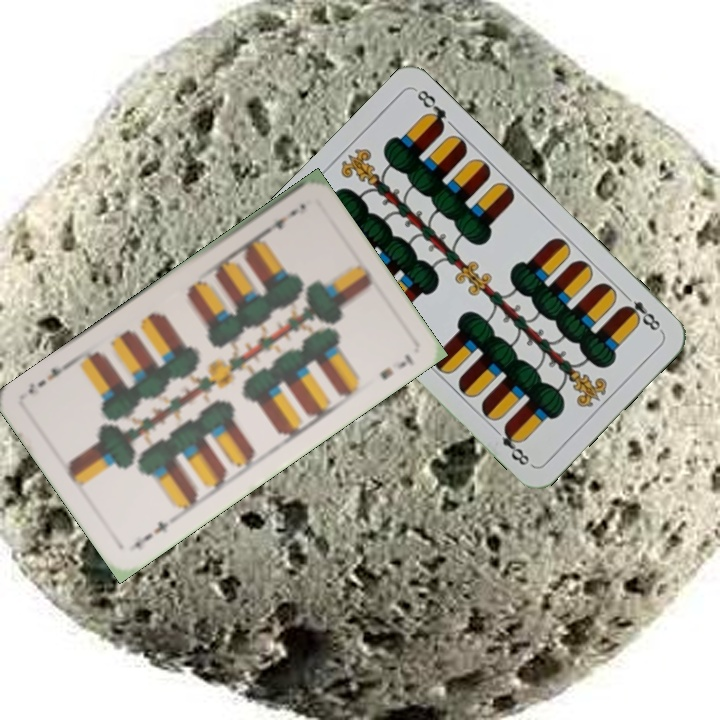E7: (129, 517, 172, 553), (258, 204, 301, 238)
E8: (618, 288, 665, 335)
